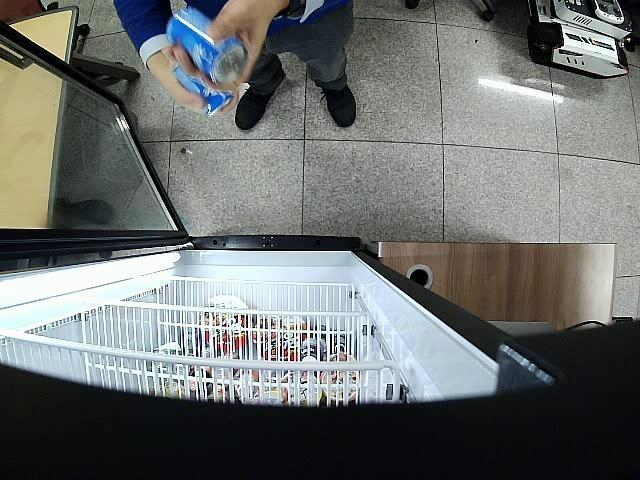15_letsbe: (166, 9, 246, 85), (176, 66, 232, 115)
